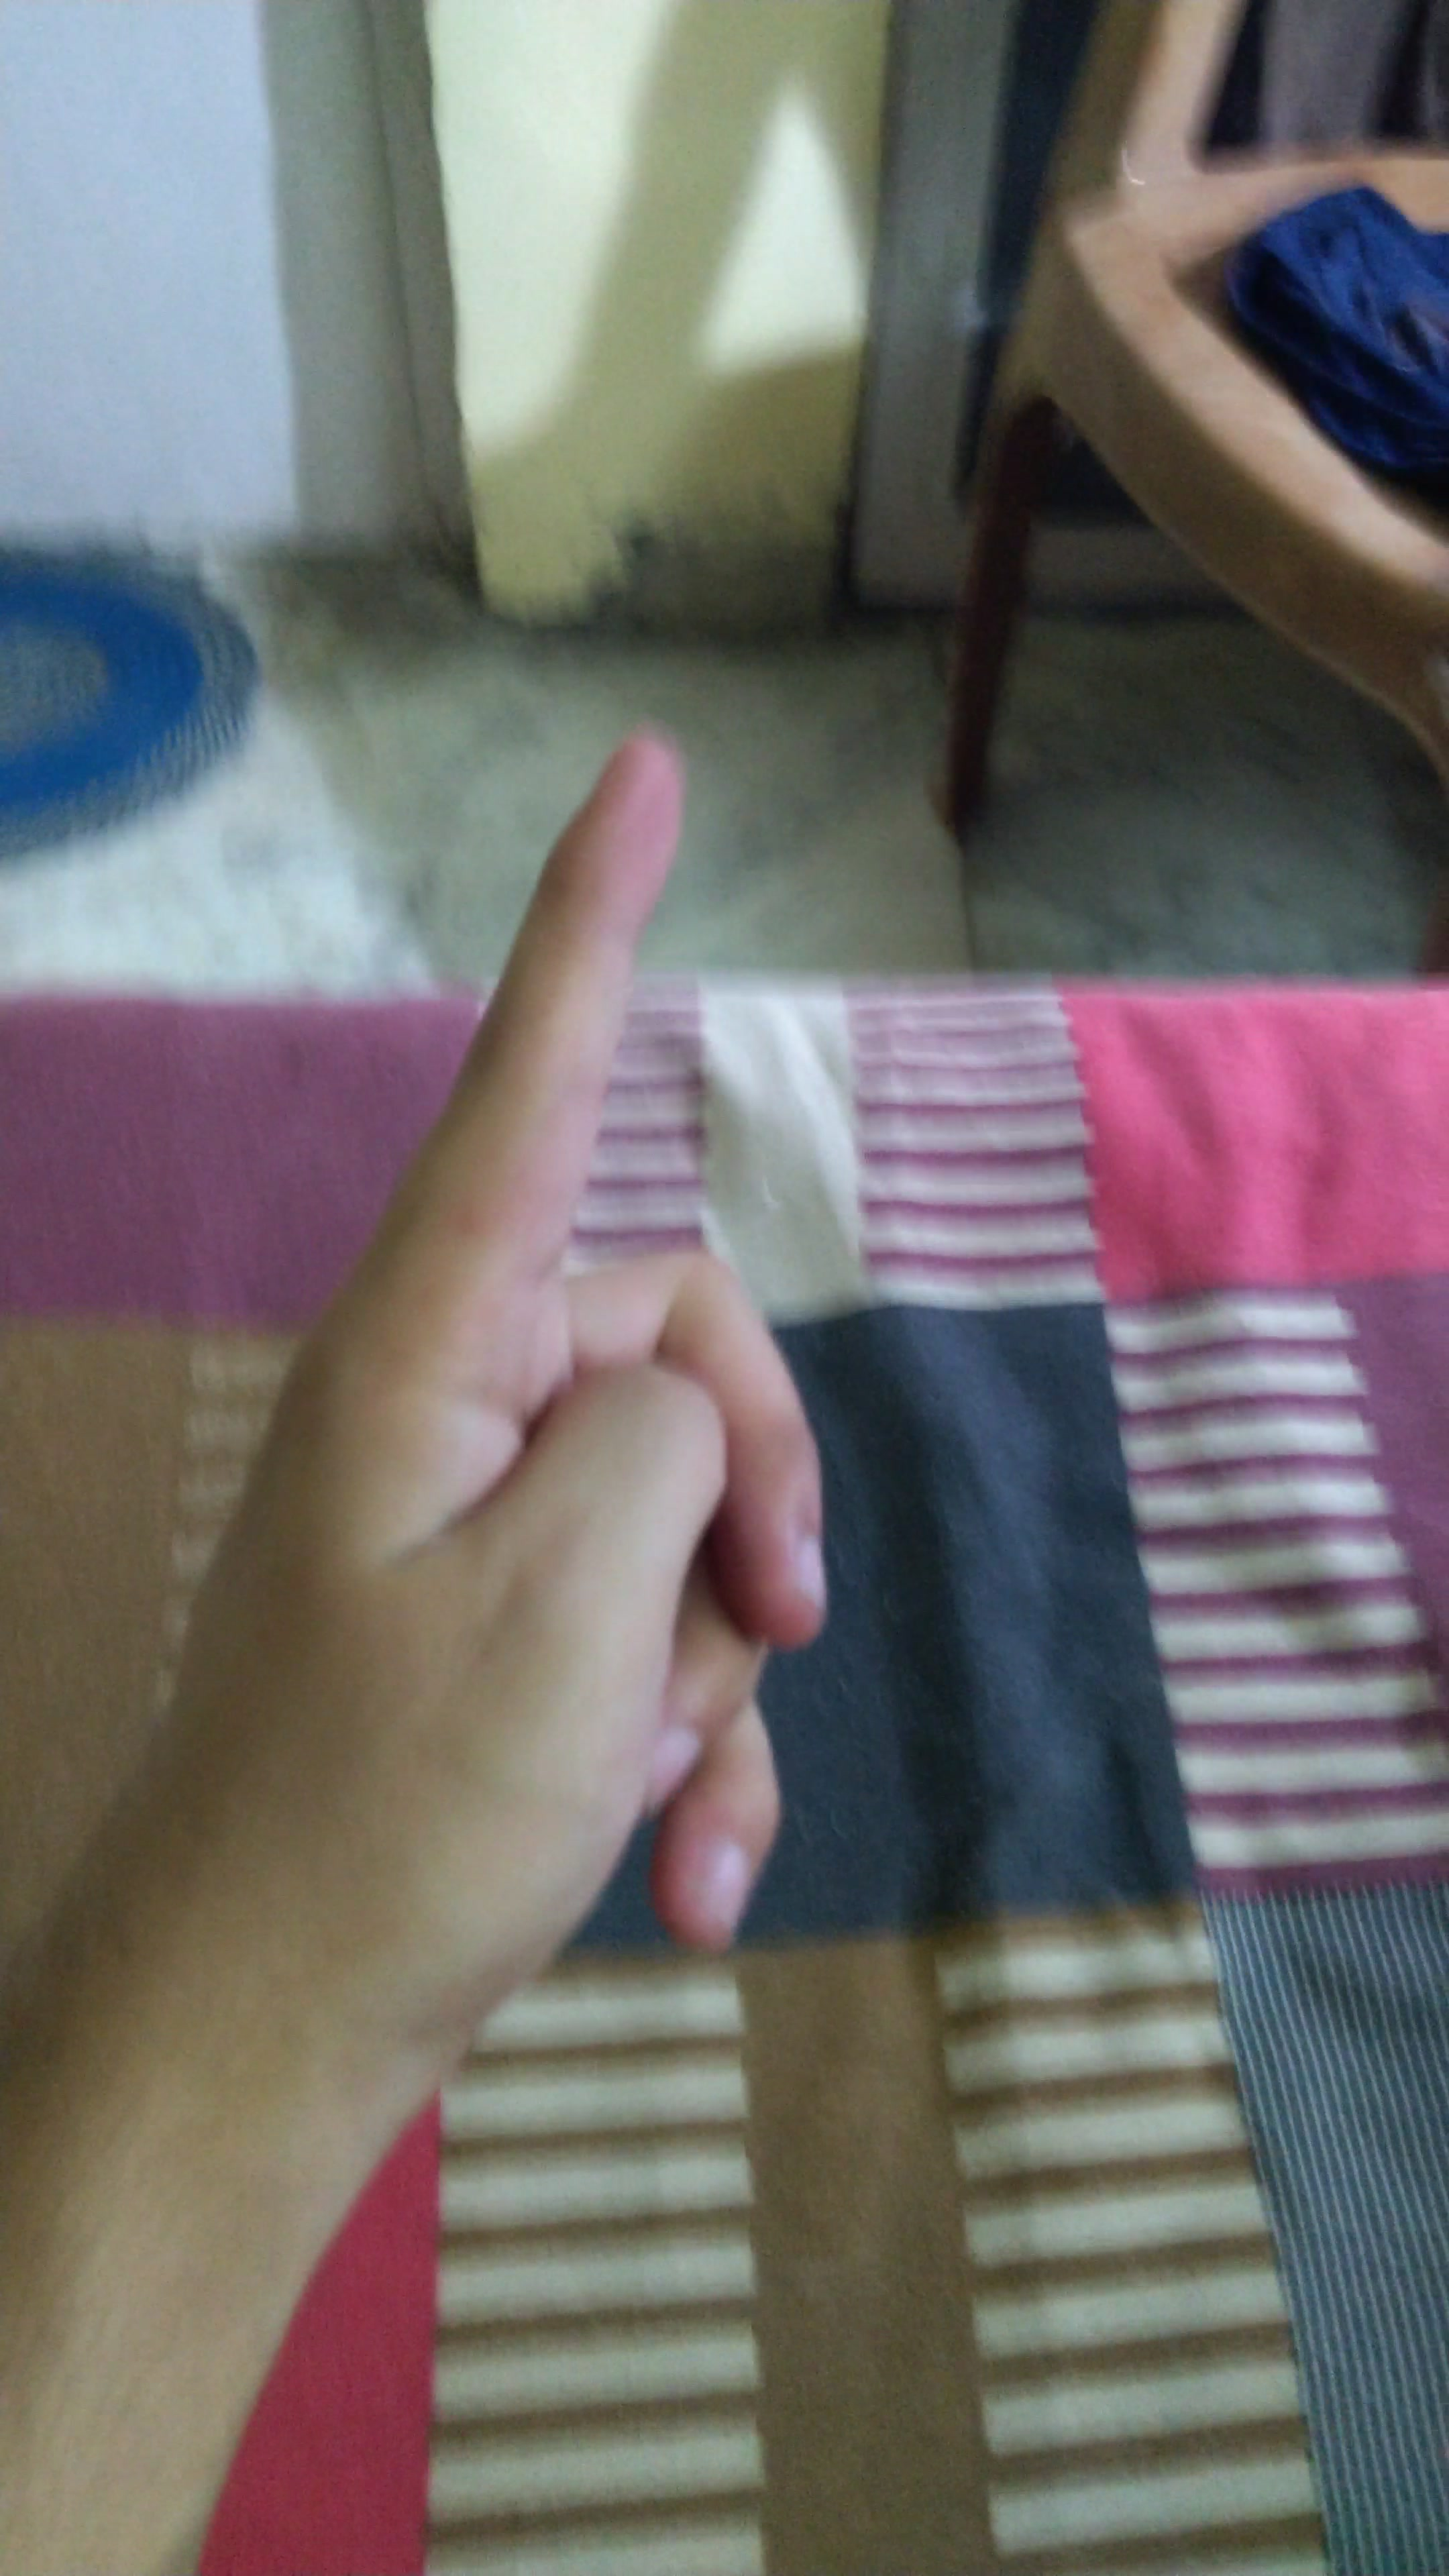hand: (64, 695, 1049, 2102)
